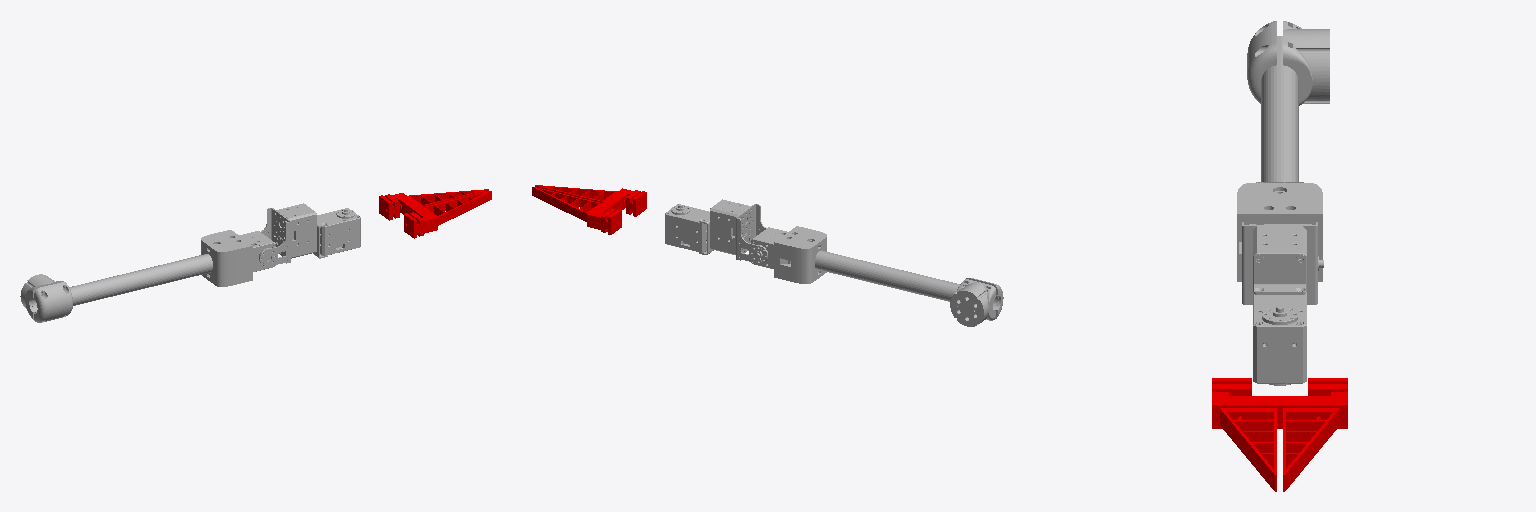
robot.urdf — st_arm:
<?xml version="1.0" encoding="utf-8"?>

<robot name="st_arm">

  <link name="base_link">
    <inertial>
      <origin xyz="3.42763889139344E-10 0.000333900859339166 0.0310722985931785" rpy="0 0 0" />
      <mass value="0.594687468826075" />
      <inertia
        ixx="0.00033121805268079"   
        ixy="-4.35299202159853E-13" iyy="0.000348337167012716"
        ixz="1.5306818843163E-12"   iyz="2.26266159914787E-06" izz="0.000569437102715373" />
    </inertial>
    <visual>
      <origin
        xyz="0 0 0"
        rpy="0 0 0" />
      <geometry>
        <mesh
          filename="package://st_arm_description/meshes/stl/base_link.STL" />
      </geometry>
      <material
        name="">
        <color
          rgba="0.752941176470588 0.752941176470588 0.752941176470588 1" />
      </material>
    </visual>
    <!--
    <collision>
      <origin
        xyz="0 0 0"
        rpy="0 0 0" />
      <geometry>
        <mesh
          filename="package://st_arm_description/meshes/stl/base_link.STL" />
      </geometry>
    </collision>
    -->
  </link>
  
  <!--
  <joint name='world_joint' type='fixed'>
    <child>base_link</child>
    <parent>world</parent>
    <axis>
      <xyz>0 0 0</xyz>
      <limit>
        <lower>-1e+16</lower>
        <upper>1e+16</upper>
      </limit>
      <dynamics>
        <spring_reference>0</spring_reference>
        <spring_stiffness>0</spring_stiffness>
      </dynamics>
      <use_parent_model_frame>1</use_parent_model_frame>
    </axis>      
  </joint>
  -->
  <!---->
  <link name="shoulder_yaw_link">
    <inertial>
      <origin xyz="7.62380313221452E-05 -0.00199452460559476 0.0999832145397144" rpy="0 0 0" />
      <mass value="0.552307334689627" />
      <inertia
        ixx="0.000249125822592326" 
        ixy="8.29800383614982E-07" iyy="0.000406785094181923"
        ixz="4.85170850516518E-07" iyz="2.59356420474465E-07" izz="0.000263428583195006" />
    </inertial>
    <visual>
      <origin
        xyz="0 0 0"
        rpy="0 0 0" />
      <geometry>
        <mesh
          filename="package://st_arm_description/meshes/stl/shoulder_yaw_link.STL" />
      </geometry>
      <material
        name="">
        <color
          rgba="0.752941176470588 0.752941176470588 0.752941176470588 1" />
      </material>
    </visual>
    <!--
    <collision>
      <origin
        xyz="0 0 0"
        rpy="0 0 0" />
      <geometry>
        <mesh
          filename="package://st_arm_description/meshes/stl/shoulder_yaw_link.STL" />
      </geometry>
    </collision>
    -->
  </link>

  <joint name="shoulder_yaw_joint"  type="revolute">
    <origin
      xyz="0 0 0"
      rpy="0 0 0" />
    <parent link="base_link" />
    <child  link="shoulder_yaw_link" />
    <axis
      xyz="0 0 1" />
    <limit
      lower="-3.14"
      upper="3.14"
      effort="1"
      velocity="1" />
    <dynamics
      damping="0.1"
      friction="0.1" />
  </joint>

  <link name="shoulder_pitch_link">
    <inertial>
      <origin xyz="0.222041673337002 0.0457365567993367 -1.61015178481994E-07" rpy="0 0 0" />
      <mass value="0.653267805710522" />
      <inertia 
        ixx="0.000286326347218802" 
        ixy="-1.49184297706474E-07" iyy="0.000648405054695329" 
        ixz="-1.16084442264686E-10" iyz="-1.03191840644746E-10" izz="0.000486228354734812" />
       
    </inertial>
    <visual>
      <origin
        xyz="0 0 0"
        rpy="0 0 0" />
      <geometry>
        <mesh
          filename="package://st_arm_description/meshes/stl/shoulder_pitch_link.STL" />
      </geometry>
      <material
        name="">
        <color
          rgba="0.752941176470588 0.752941176470588 0.752941176470588 1" />
      </material>
    </visual>
    <!--
    <collision>
      <origin
        xyz="0 0 0"
        rpy="0 0 0" />
      <geometry>
        <mesh
          filename="package://st_arm_description/meshes/stl/shoulder_pitch_link.STL" />
      </geometry>
    </collision>
    -->
  </link>

  <joint name="shoulder_pitch_joint"  type="revolute">
    <origin
      xyz="0 0 0.1019"
      rpy="0 0 0" />
    <parent
      link="shoulder_yaw_link" />
    <child
      link="shoulder_pitch_link" />
    <axis
      xyz="0 1 0" />
    <limit
      lower="-3.9"
      upper="0.76"
      effort="1"
      velocity="1" />
    <dynamics
      damping="0.1"
      friction="0.1" />
  </joint>

  <link name="elbow_pitch_link">
    <inertial>
      <origin xyz="0.170444738305821 0.00120918087086364 4.80993232019056E-05"
        rpy="0 0 0" />
      <mass value="0.170291975194639" />
      <inertia 
        ixx="3.02042222407698E-05" 
        ixy="-6.35246878390523E-08" iyy="0.000198777906290856"
        ixz="-2.342424762705E-10" iyz="-1.09090281580559E-10" izz="0.000200817831889362" />
    </inertial>
    <visual>
      <origin
        xyz="0 0 0"
        rpy="0 0 0" />
      <geometry>
        <mesh
          filename="package://st_arm_description/meshes/stl/elbow_pitch_link.STL" />
      </geometry>
      <material
        name="">
        <color
          rgba="0.752941176470588 0.752941176470588 0.752941176470588 1" />
      </material>
    </visual>
    <!--
    <collision>
      <origin
        xyz="0 0 0"
        rpy="0 0 0" />
      <geometry>
        <mesh
          filename="package://st_arm_description/meshes/stl/elbow_pitch_link.STL" />
      </geometry>
    </collision>
    -->
  </link>

  <joint name="elbow_pitch_joint"  type="revolute">
    <origin
      xyz="0.25 0 0"
      rpy="0 0 0" />
    <parent
      link="shoulder_pitch_link" />
    <child
      link="elbow_pitch_link" />
    <axis
      xyz="0 1 0" />
    <limit
      lower="-2.9"
      upper="2.9"
      effort="1"
      velocity="1" />
    <dynamics
      damping="0.1"
      friction="0.1" />
  </joint>

  <link  name="wrist_pitch_link">
    <inertial>
      <origin xyz="0.0427858940182061 -1.07794398136307E-12 0.0113299623932117" rpy="0 0 0" />
      <mass value="0.0923460959053665" />
      <inertia
        ixx="2.36445924797382E-05"  
        ixy="2.03858506919348E-14"  iyy="2.44308045383496E-05" 
        ixz="-3.88711143279157E-07" iyz="1.60956216622028E-14" izz="1.61389593694291E-05" />
    </inertial>
    
    <visual>
      <origin
        xyz="0 0 0"
        rpy="0 0 0" />
      <geometry>
        <mesh
          filename="package://st_arm_description/meshes/stl/wrist_pitch_link.STL" />
      </geometry>
      <material
        name="">
        <color
          rgba="0.752941176470588 0.752941176470588 0.752941176470588 1" />
      </material>
    </visual>
    <!--
    <collision>
      <origin
        xyz="0 0 0"
        rpy="0 0 0" />
      <geometry>
        <mesh
          filename="package://st_arm_description/meshes/stl/wrist_pitch_link.STL" />
      </geometry>
    </collision>
    -->
  </link>

  <joint  name="wrist_pitch_joint"  type="revolute">
    <origin
      xyz="0.25 0 0"
      rpy="0 0 0" />
    <parent
      link="elbow_pitch_link" />
    <child
      link="wrist_pitch_link" />
    <axis
      xyz="0 1 0" />
    <limit
      lower="-1.57"
      upper="1.57"
      effort="1"
      velocity="1" />
    <dynamics
      damping="0.1"
      friction="0.1" />
  </joint>

  <link  name="wrist_roll_link">
    <inertial>
      <origin  xyz="0.0913748969710125 6.88049080601119E-12 0.000361964169878382"  rpy="0 0 0" />
      <mass  value="0.0869629421685106" />
      <inertia
        ixx="1.4181205833875E-05"  ixy="-9.5763914944462E-15"  ixz="2.92507153176442E-09"
                                   iyy="2.29932833535925E-05"  iyz="1.70365869270755E-16"
                                                               izz="1.96710122979677E-05" />
    </inertial>
    <visual>
      <origin
        xyz="0 0 0"
        rpy="0 0 0" />
      <geometry>
        <mesh
          filename="package://st_arm_description/meshes/stl/wrist_roll_link.STL" />
      </geometry>
      <material
        name="">
        <color
          rgba="0.752941176470588 0.752941176470588 0.752941176470588 1" />
      </material>
    </visual>
    <!--
    <collision>
      <origin
        xyz="0 0 0"
        rpy="0 0 0" />
      <geometry>
        <mesh
          filename="package://st_arm_description/meshes/stl/wrist_roll_link.STL" />
      </geometry>
    </collision>
    -->
  </link>

  <joint  name="wrist_roll_joint"  type="revolute">
    <origin
      xyz="0 0 0"
      rpy="0 0 0" />
    <parent
      link="wrist_pitch_link" />
    <child
      link="wrist_roll_link" />
    <axis
      xyz="1 0 0" />
    <limit
      lower="-1.57"
      upper="1.57"
      effort="1"
      velocity="1" />
    <dynamics
      damping="0.1"
      friction="0.1" />
  </joint>

  <link  name="wrist_yaw_link">
    <inertial>
      <origin  xyz="0.0521081908517804 0.000347863675501595 0.0221849641881863"  rpy="0 0 0" />
      <mass  value="0.148763165360562" />
      <inertia
        ixx="6.90068081268683E-05"  ixy="2.51081810291003E-07"  ixz="4.81484924088221E-07"
                                    iyy="3.34790199859609E-05"  iyz="-1.73103830643691E-09"
                                                                izz="5.62471064308066E-05" />
    </inertial>
    
    <visual>
      <origin
        xyz="0 0 0"
        rpy="0 0 0" />
      <geometry>
        <mesh
          filename="package://st_arm_description/meshes/stl/wrist_yaw_link.STL" />
      </geometry>
      <material
        name="">
        <color
          rgba="0.298039215686275 0.298039215686275 0.298039215686275 1" />
      </material>
    </visual>
    <!--
    <collision>
      <origin
        xyz="0 0 0"
        rpy="0 0 0" />
      <geometry>
        <mesh
          filename="package://st_arm_description/meshes/stl/wrist_yaw_link.STL" />
      </geometry>
    </collision>
    -->
  </link>

  <joint  name="wrist_yaw_joint"  type="revolute">
    <origin
      xyz="0.1045 0 0"
      rpy="0 0 0" />
    <parent
      link="wrist_roll_link" />
    <child
      link="wrist_yaw_link" />
    <axis
      xyz="0 0 1" />
    <limit
      lower="-2"
      upper="2"
      effort="1"
      velocity="1" />
    <dynamics
      damping="0.1"
      friction="0.1" />
  </joint>

  <link  name="gripper_right_link">
    <inertial>
      <origin  xyz="0.0123620280100676 -0.0168521213261615 -1.38777878078145E-17"  rpy="0 0 0" />
      <mass  value="0.0143611547600087" />
      <inertia
        ixx="1.43206285423512E-06"  ixy="-1.18365515851186E-06"  ixz="4.68881397128005E-22"
        iyy="7.35395394578879E-06"  iyz="-5.43395394590051E-22"
        izz="8.3769796189486E-06" />
    </inertial>
    <visual>
      <origin
        xyz="0 0 0"
        rpy="0 0 0" />
      <geometry>
        <mesh
          filename="package://st_arm_description/meshes/stl/gripper_right_link.STL" />
      </geometry>
      <material
        name="">
        <color
          rgba="1 0 0 1" />
      </material>
    </visual>
    <collision>
      <origin
        xyz="0 0 0"
        rpy="0 0 0" />
      <geometry>
        <mesh
          filename="package://st_arm_description/meshes/stl/gripper_right_link.STL" />
      </geometry>
    </collision>
  </link>

  <joint  name="gripper_right_joint"  type="prismatic">
    <origin
      xyz="0.083595 0 0"
      rpy="0 0 0" />
    <parent
      link="wrist_yaw_link" />
    <child
      link="gripper_right_link" />
    <axis
      xyz="0 1 0" />
    <limit
      lower="-0.03"
      upper="0"
      effort="1"
      velocity="1" />
    <dynamics
      damping="0.1"
      friction="0.1" />
  </joint>

  <link name="gripper_left_link">
    <inertial>
      <origin  xyz="0.0123620280100676 0.0168521213261615 6.84174938925253E-15"  rpy="0 0 0" />
      <mass  value="0.0143611547600087" />
      <inertia
        ixx="1.43206285423512E-06"  ixy="1.18365515851186E-06"  ixz="-3.85585466253345E-18"
        iyy="7.35395394578879E-06"  iyz="6.56787200187322E-19"
        izz="8.37697961894861E-06" />
    </inertial>
    <visual>
      <origin
        xyz="0 0 0"
        rpy="0 0 0" />
      <geometry>
        <mesh
          filename="package://st_arm_description/meshes/stl/gripper_left_link.STL" />
      </geometry>
      <material
        name="">
        <color
          rgba="1 0 0 1" />
      </material>
    </visual>
    <collision>
      <origin
        xyz="0 0 0"
        rpy="0 0 0" />
      <geometry>
        <mesh
          filename="package://st_arm_description/meshes/stl/gripper_left_link.STL" />
      </geometry>
    </collision>
  </link>

  <joint name="gripper_left_joint" type="prismatic">
    <origin
      xyz="0.083595 0 0"
      rpy="0 0 0" />
    <parent
      link="wrist_yaw_link" />
    <child
      link="gripper_left_link" />
    <axis
      xyz="0 -1 0" />
    <limit
      lower="-0.03"
      upper="0"
      effort="1"
      velocity="1" />
    <dynamics
      damping="0.1"
      friction="0.1" />
  </joint>

</robot>

--- What the picture shows (computed from the rendered views, not written in the file) ---
3 views of the same robot in one strip: view 1: azimuth 30°, elevation 25°; view 2: azimuth 150°, elevation 25°; view 3: azimuth 270°, elevation 25° (orthographic).
Robot: st_arm — 9 links, 8 joints (6 revolute, 2 prismatic); root link base_link; default pose: all joints at 0.
Visible links, largest first — view 1: elbow_pitch_link, wrist_pitch_link, wrist_roll_link, gripper_right_link, gripper_left_link; view 2: elbow_pitch_link, wrist_pitch_link, wrist_roll_link, gripper_left_link, gripper_right_link; view 3: elbow_pitch_link, wrist_roll_link, wrist_pitch_link, gripper_right_link, gripper_left_link.
Link boxes in pixels (x1,y1,x2,y2): elbow_pitch_link: (20, 230, 275, 322); wrist_pitch_link: (261, 203, 316, 266); wrist_roll_link: (313, 208, 360, 258); gripper_right_link: (404, 191, 491, 238); gripper_left_link: (379, 189, 488, 220); elbow_pitch_link: (751, 226, 1003, 326); wrist_pitch_link: (710, 199, 766, 263); wrist_roll_link: (665, 204, 713, 254); gripper_left_link: (532, 187, 621, 234); gripper_right_link: (535, 185, 646, 216); elbow_pitch_link: (1237, 21, 1329, 281); wrist_roll_link: (1253, 284, 1306, 385); wrist_pitch_link: (1242, 222, 1317, 304); gripper_right_link: (1212, 378, 1279, 491); gripper_left_link: (1280, 378, 1347, 491).
Size in the robot's own frame: 0.5476 by 0.0723 by 0.0553 metres.
Meshes: 9 distinct files referenced, 5 mesh visuals loaded (5 binary STL); not drawn: 4 (reference not matched to a file when rendering).